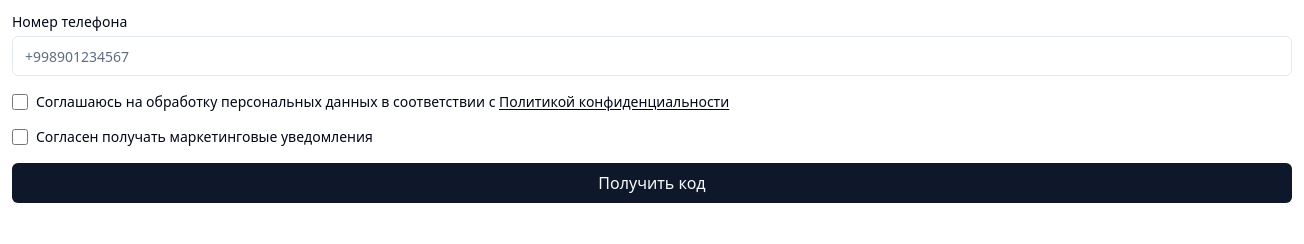
shows a validation error and does not navigate for an invalid phone
Type "12345" into the field labelled "Номер телефона".
click(652, 56); type("12345")  # box [12,36,1292,76]
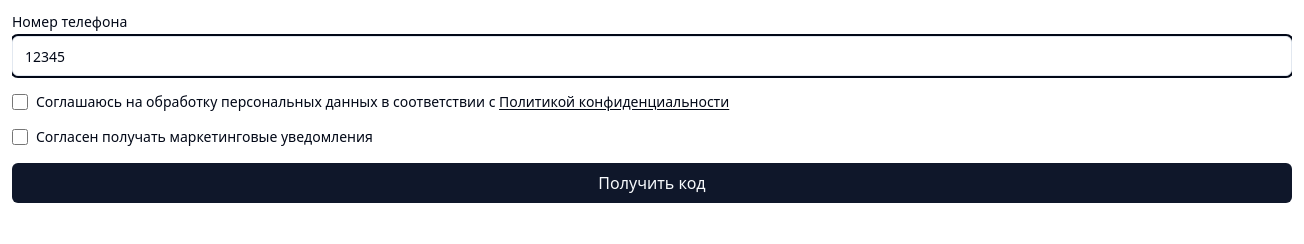
Click the checkbox labelled "Соглашаюсь на обработку персональных данных".
click(20, 102)  # box [12,94,28,110]
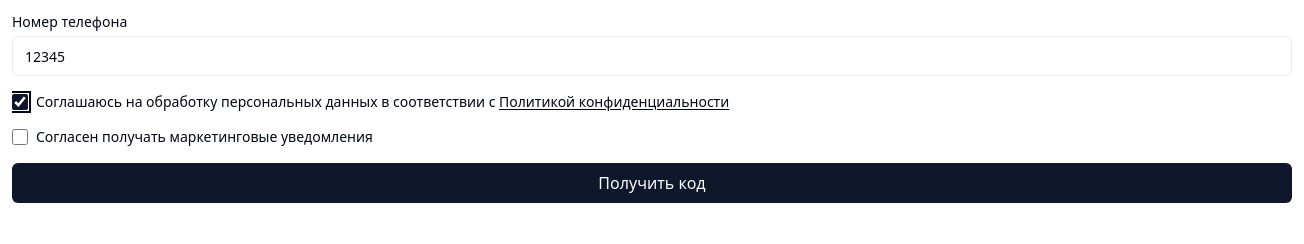
Click the button "Получить код".
click(652, 182)  # box [12,162,1292,202]
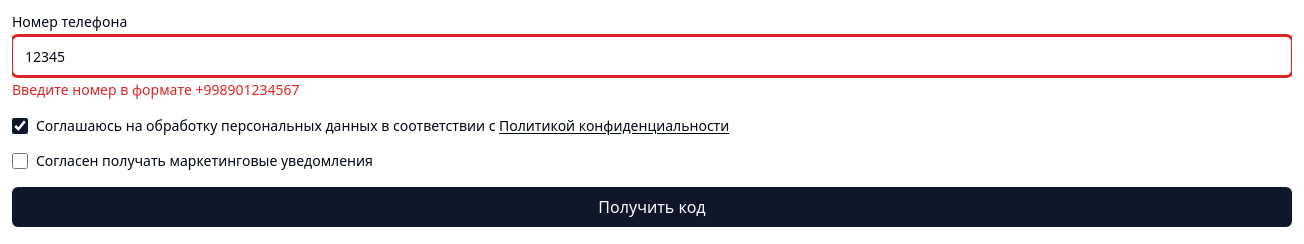
Check: the text "Введите номер в формате +998901234567" is shown, box [12,80,300,99]
